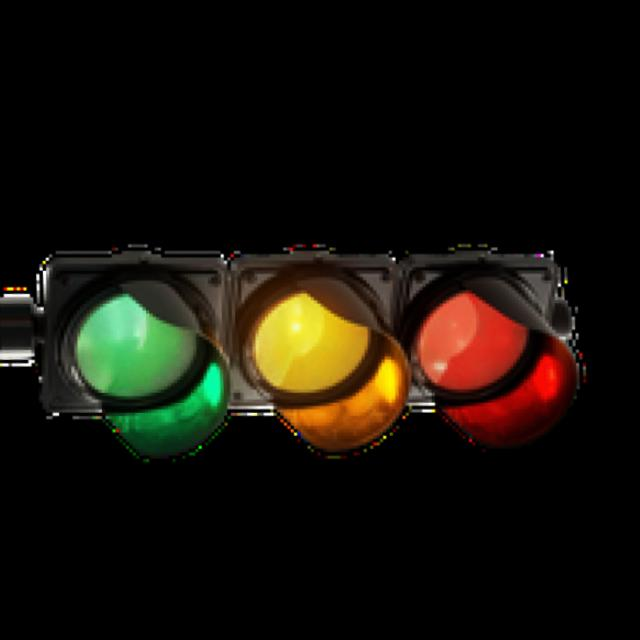green_light: (0, 208, 262, 476)
red_light: (380, 223, 598, 485)
yellow_light: (179, 196, 430, 461)
